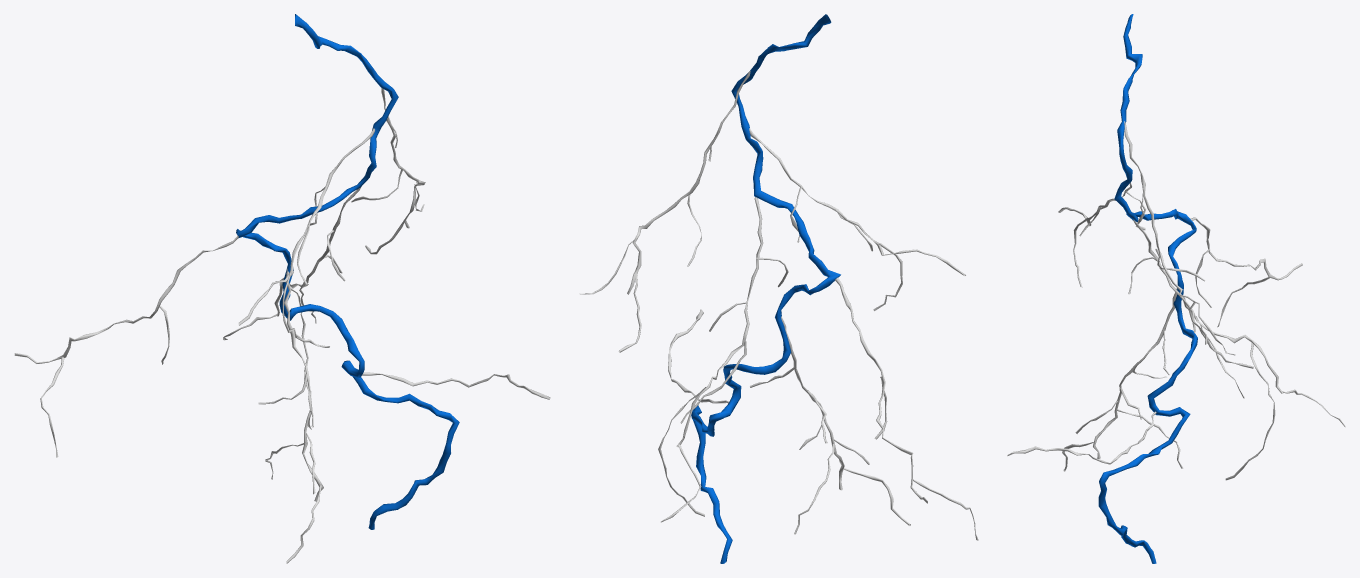
The model's file is LightingStrike_2.fbx.
3 views of the same model, side by side, from view 1: azimuth 30°, elevation 25°; view 2: azimuth 150°, elevation 25°; view 3: azimuth 270°, elevation 25° (orthographic). The views are drawn at different scales.
Parts seen in each view (by area): view 1: LightingStrike_2; view 2: LightingStrike_2; view 3: LightingStrike_2.
Boxes of the visible parts, box(x1,y1,x2,y2) form: LightingStrike_2: box(14, 14, 550, 563); LightingStrike_2: box(579, 14, 978, 563); LightingStrike_2: box(1007, 14, 1345, 563).
Size of the model in its own units: 3767 by 5122 by 3085.
